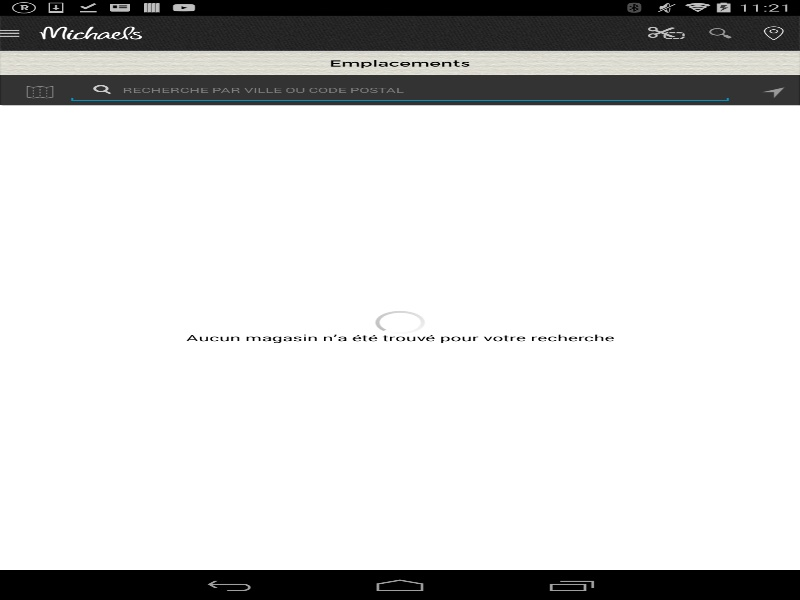Button: (26, 85, 53, 98), (760, 85, 786, 98)
Input: (66, 77, 733, 102)
